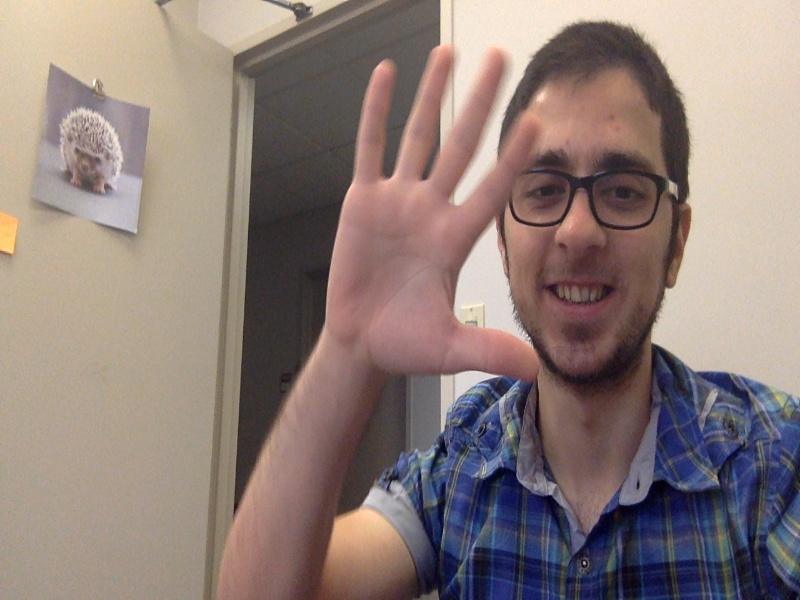5-hand: (335, 44, 544, 392)
